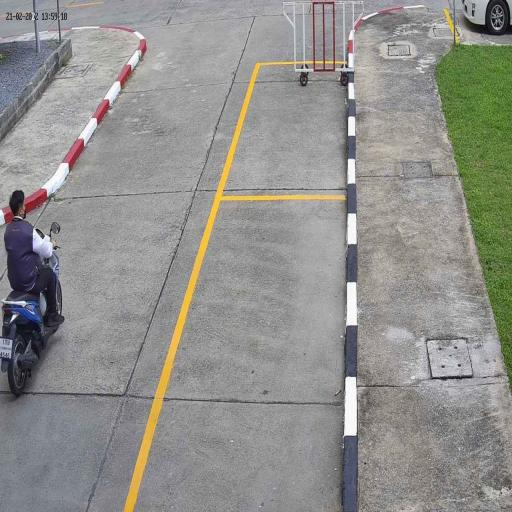motorcycle: (0, 274, 63, 397)
